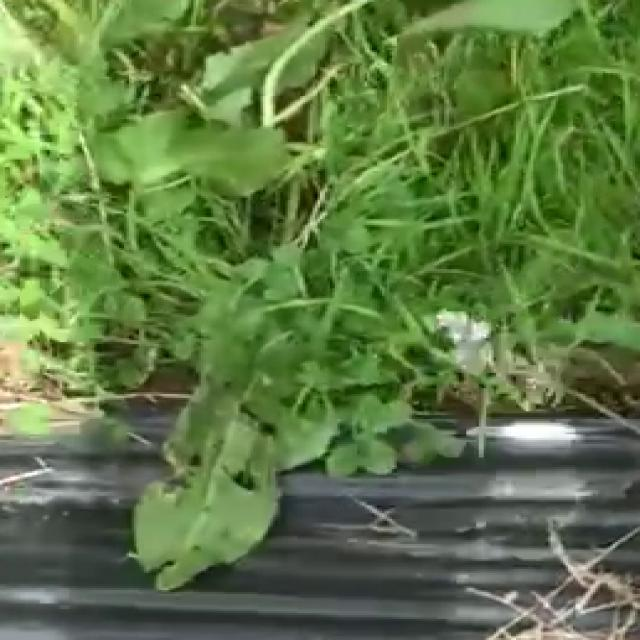organic waste: (94, 205, 429, 598), (47, 4, 576, 223)
